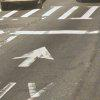Crosswalk: (2, 3, 100, 34)
